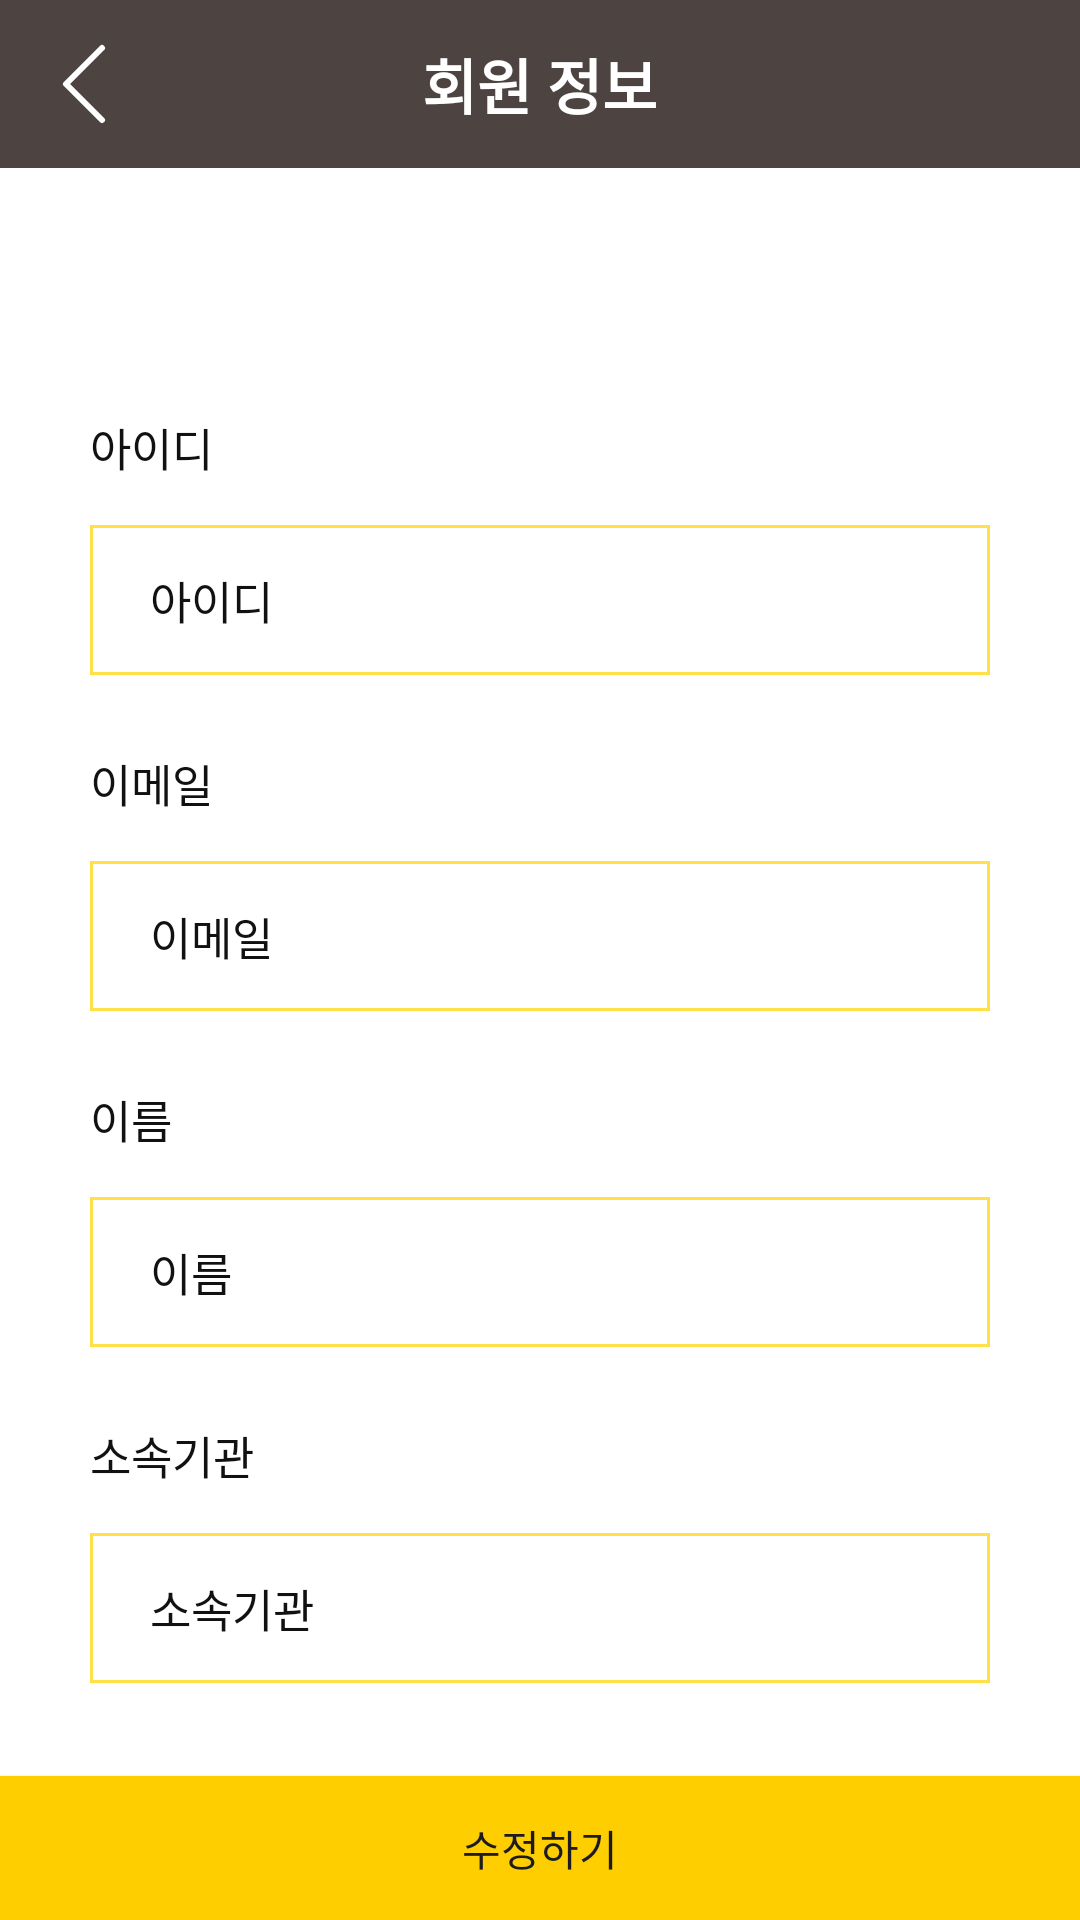

Screen size 1080 × 1920. Icon name, then its box in pixels as (x1, y1, x2, y2):
back: (63, 44, 105, 123)
